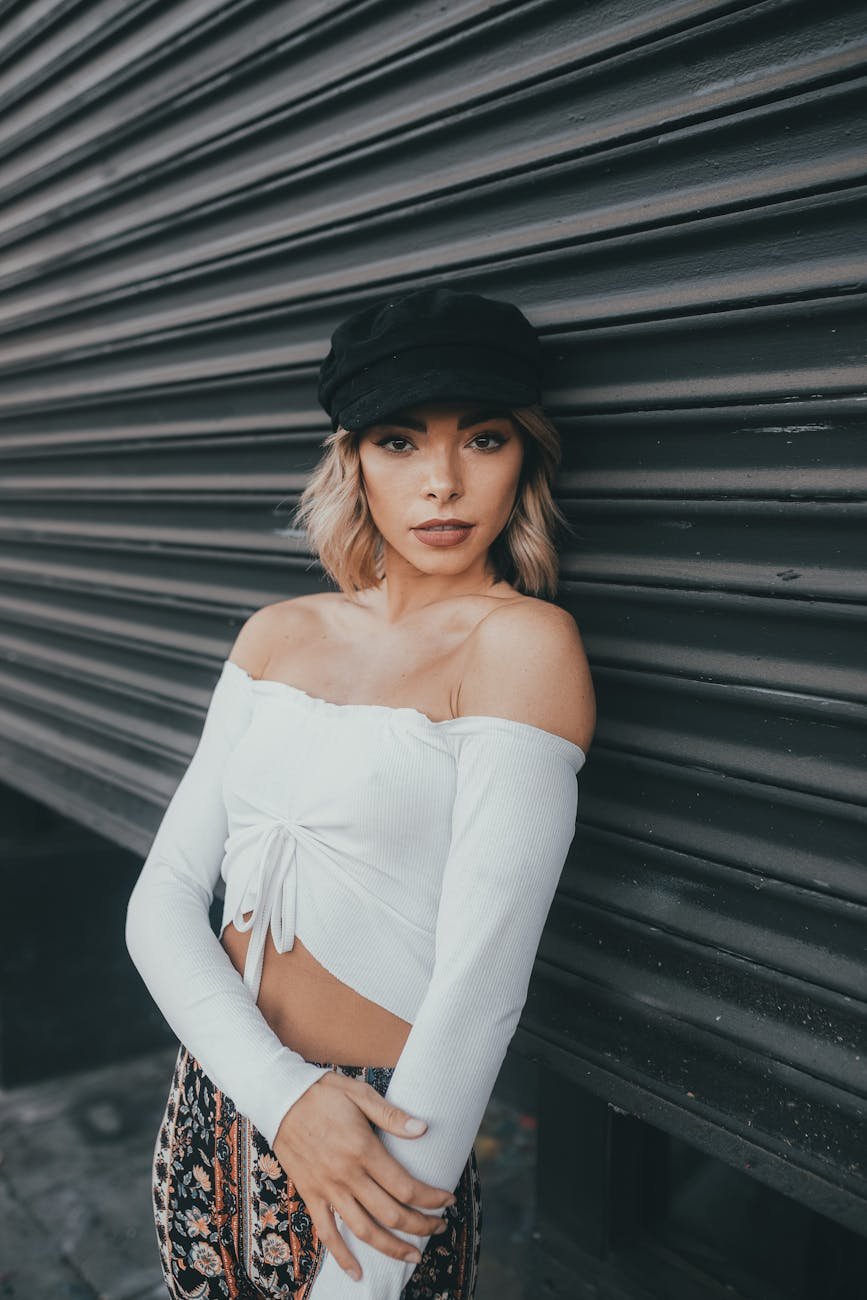crop_top: (180, 662, 595, 1017)
